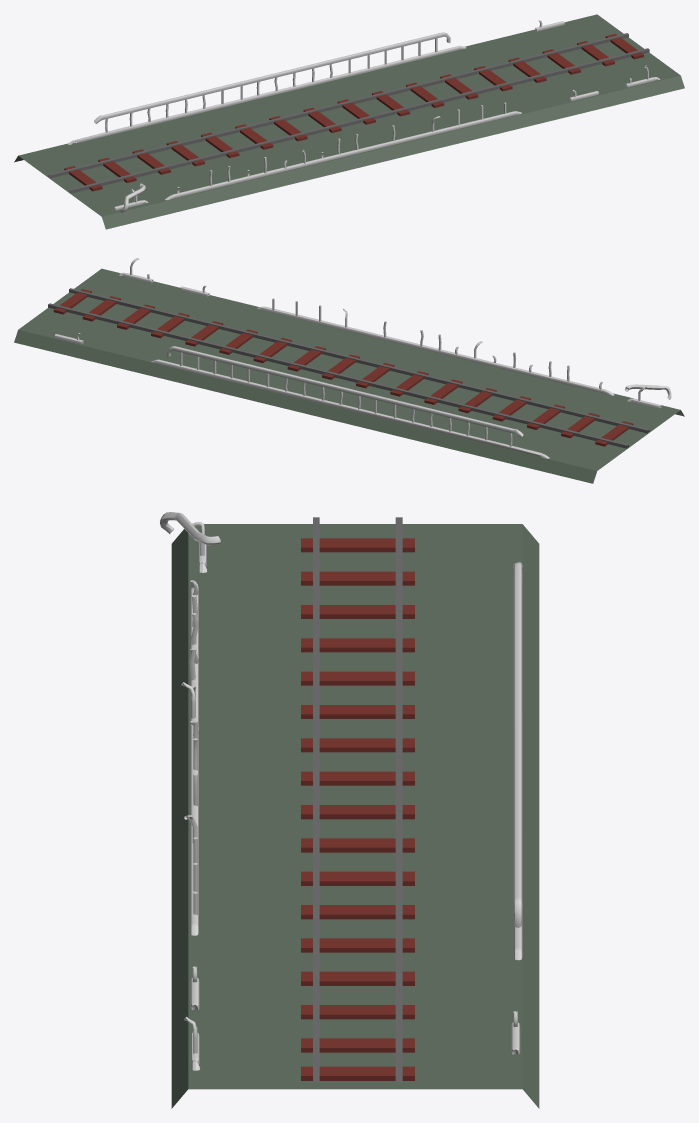
The picture shows the model from 3 angles, top to bottom: view 1: azimuth 30°, elevation 25°; view 2: azimuth 150°, elevation 25°; view 3: azimuth 270°, elevation 25°; orthographic projection. The views are drawn at different scales.
Parts seen in each view (by area): view 1: pCube314; view 2: pCube314; view 3: pCube314.
Boxes of the visible parts, bbox=[...] form: pCube314: bbox=[14, 14, 684, 229]; pCube314: bbox=[14, 258, 684, 483]; pCube314: bbox=[160, 512, 539, 1108].
Bounding box in the file's own units: 200 × 10.1 × 56.72.
